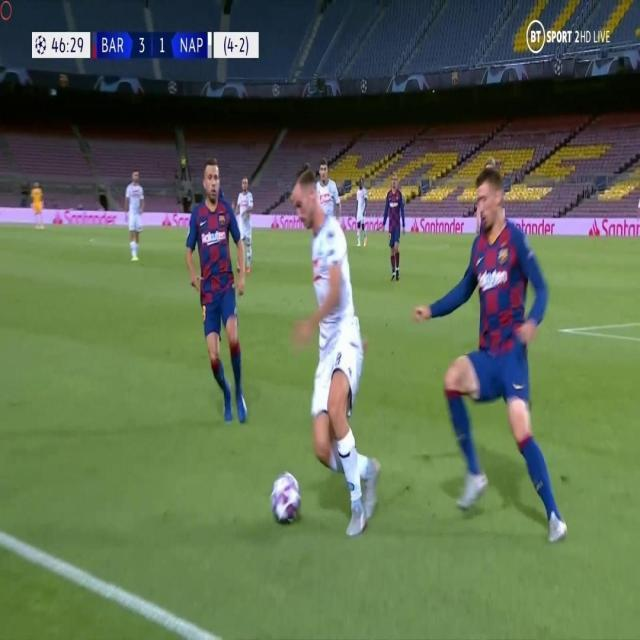ball: (265, 466, 306, 530)
player: (411, 152, 570, 549), (281, 152, 389, 545), (180, 153, 254, 432), (382, 171, 405, 283), (123, 164, 147, 264), (234, 172, 256, 268), (353, 176, 369, 249)
referee: (30, 178, 46, 232)
